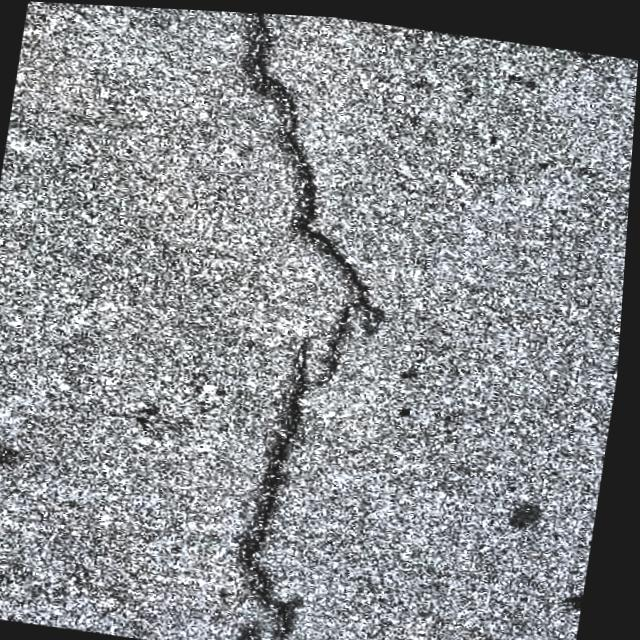cracks: (249, 10, 385, 378), (247, 333, 312, 640)
